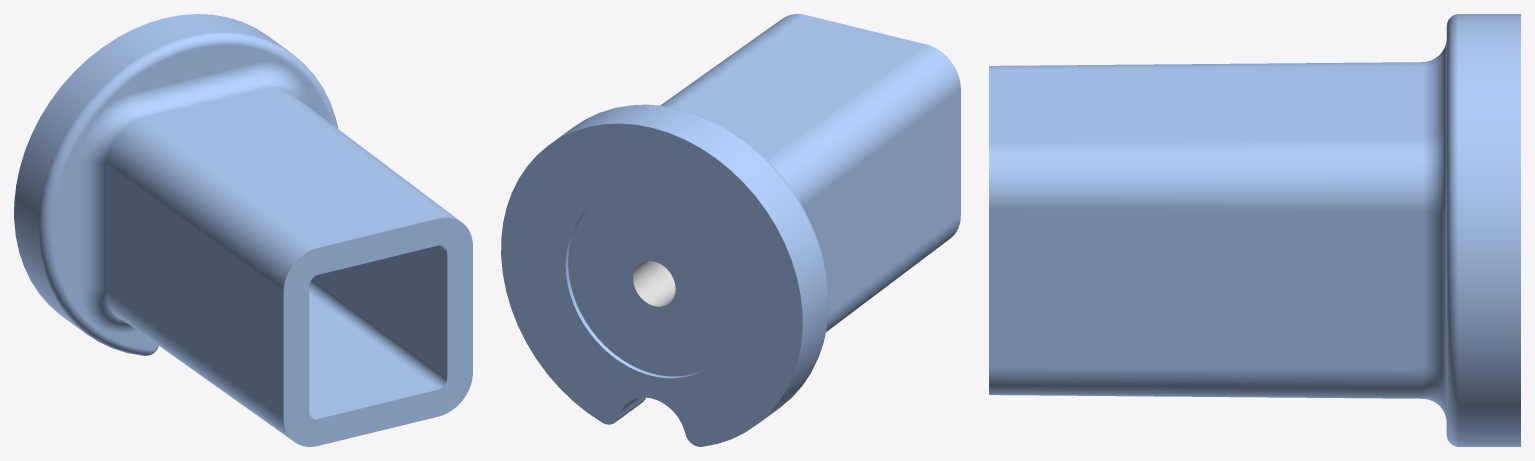
The model's file is tensioner_base.gltf.
3 renders of one model, left to right at view 1: azimuth 30°, elevation 25°; view 2: azimuth 150°, elevation 25°; view 3: azimuth 270°, elevation 25°, orthographic. The views are drawn at different scales.
Visible parts, largest first — view 1: SE11_060110011; view 2: SE11_060110011; view 3: SE11_060110011.
Boxes of the visible parts, box(x1,y1,x2,y2) form: SE11_060110011: box(14, 14, 472, 446); SE11_060110011: box(501, 14, 960, 446); SE11_060110011: box(989, 14, 1520, 446).
Size of the model in its own units: 0.035 by 0.0341 by 0.043.
